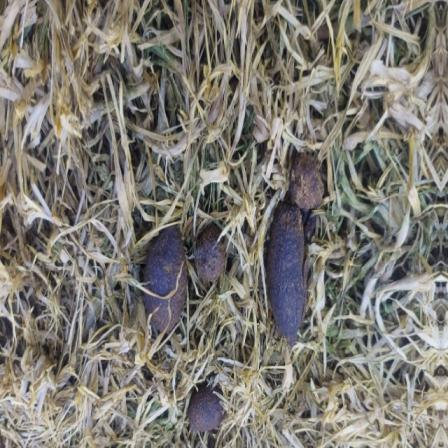dog-poop: (254, 161, 328, 359), (136, 211, 230, 348), (180, 380, 237, 437)
